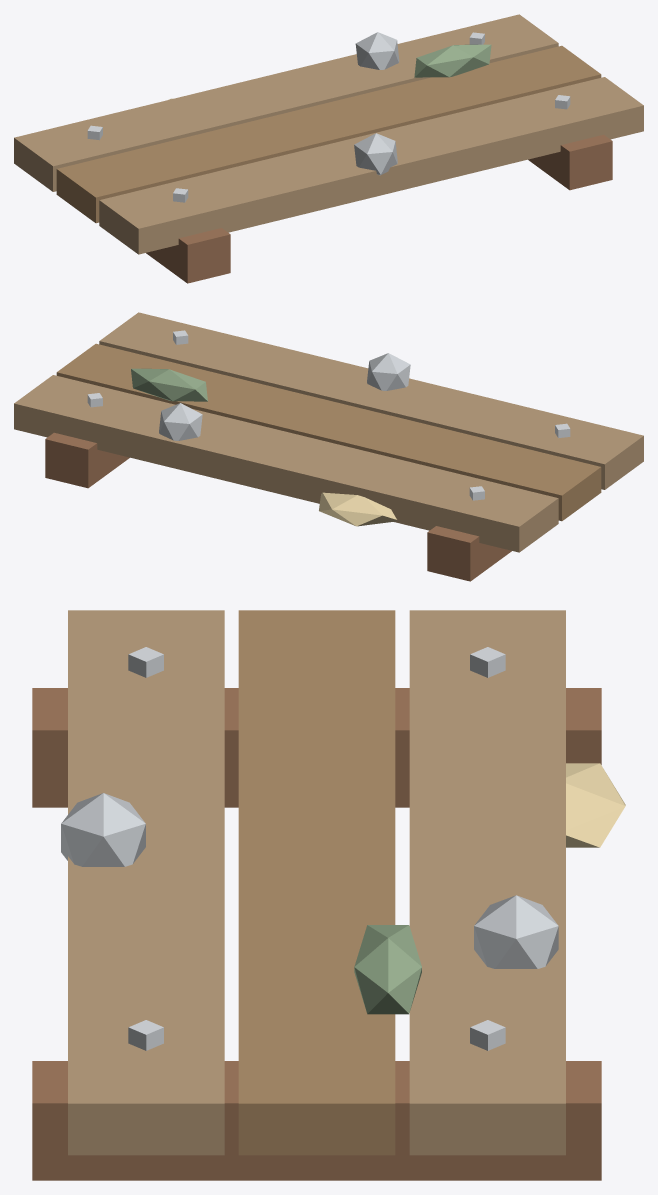
The model's file is dock_plank.glb.
The picture shows the model from 3 angles, top to bottom: view 1: azimuth 30°, elevation 25°; view 2: azimuth 150°, elevation 25°; view 3: azimuth 270°, elevation 25°; orthographic projection. The views are drawn at different scales.
Parts seen in each view (by area): view 1: plank_0, plank_1, plank_2, beam_0, beam_1, seaweed, barnacle_1.001, barnacle_0.001; view 2: plank_2, plank_0, plank_1, beam_0, beam_1, seaweed, rope_loop, barnacle_0.001, barnacle_1.001; view 3: plank_1, plank_0, plank_2, beam_1, beam_0, barnacle_1.001, barnacle_0.001, seaweed, rope_loop, nail_0.001, nail_1.001, nail_2.001 (+1 smaller).
Boxes of the visible parts, x1=… form: plank_0: x1=99, y1=77, x2=643, y2=254; plank_1: x1=56, y1=45, x2=601, y2=223; plank_2: x1=14, y1=14, x2=558, y2=191; beam_0: x1=146, y1=228, x2=230, y2=283; beam_1: x1=528, y1=134, x2=612, y2=190; seaweed: x1=414, y1=44, x2=491, y2=77; barnacle_1.001: x1=354, y1=133, x2=397, y2=175; barnacle_0.001: x1=355, y1=32, x2=399, y2=69; plank_2: x1=14, y1=375, x2=558, y2=552; plank_0: x1=99, y1=312, x2=643, y2=489; plank_1: x1=56, y1=343, x2=601, y2=521; beam_0: x1=427, y1=526, x2=511, y2=581; beam_1: x1=45, y1=432, x2=129, y2=488; seaweed: x1=131, y1=368, x2=207, y2=401; rope_loop: x1=319, y1=492, x2=396, y2=526; barnacle_0.001: x1=159, y1=403, x2=202, y2=440; barnacle_1.001: x1=367, y1=353, x2=410, y2=390; plank_1: x1=238, y1=610, x2=395, y2=1155; plank_0: x1=68, y1=610, x2=224, y2=1155; plank_2: x1=409, y1=610, x2=565, y2=1155; beam_1: x1=32, y1=1061, x2=601, y2=1180; beam_0: x1=32, y1=688, x2=601, y2=807; barnacle_1.001: x1=61, y1=793, x2=145, y2=866; barnacle_0.001: x1=474, y1=895, x2=558, y2=968; seaweed: x1=354, y1=925, x2=421, y2=1014; rope_loop: x1=566, y1=763, x2=625, y2=847; nail_0.001: x1=128, y1=647, x2=163, y2=677; nail_1.001: x1=470, y1=647, x2=505, y2=677; nail_2.001: x1=128, y1=1020, x2=163, y2=1050.
Size of the model in its own units: 1.64 by 0.27 by 0.8336.
